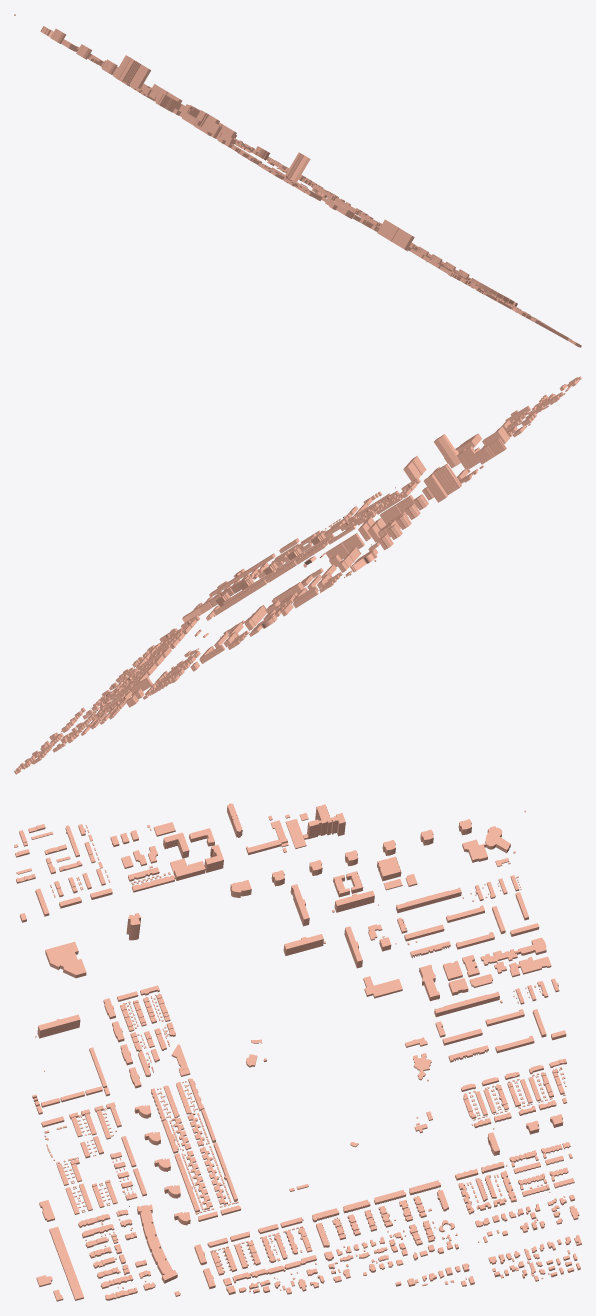
3 renders of one model, top to bottom at view 1: azimuth 30°, elevation 25°; view 2: azimuth 150°, elevation 25°; view 3: azimuth 270°, elevation 25°, orthographic. The views are drawn at different scales.
Bounding box in the file's own units: 1038 × 789 × 1278.
